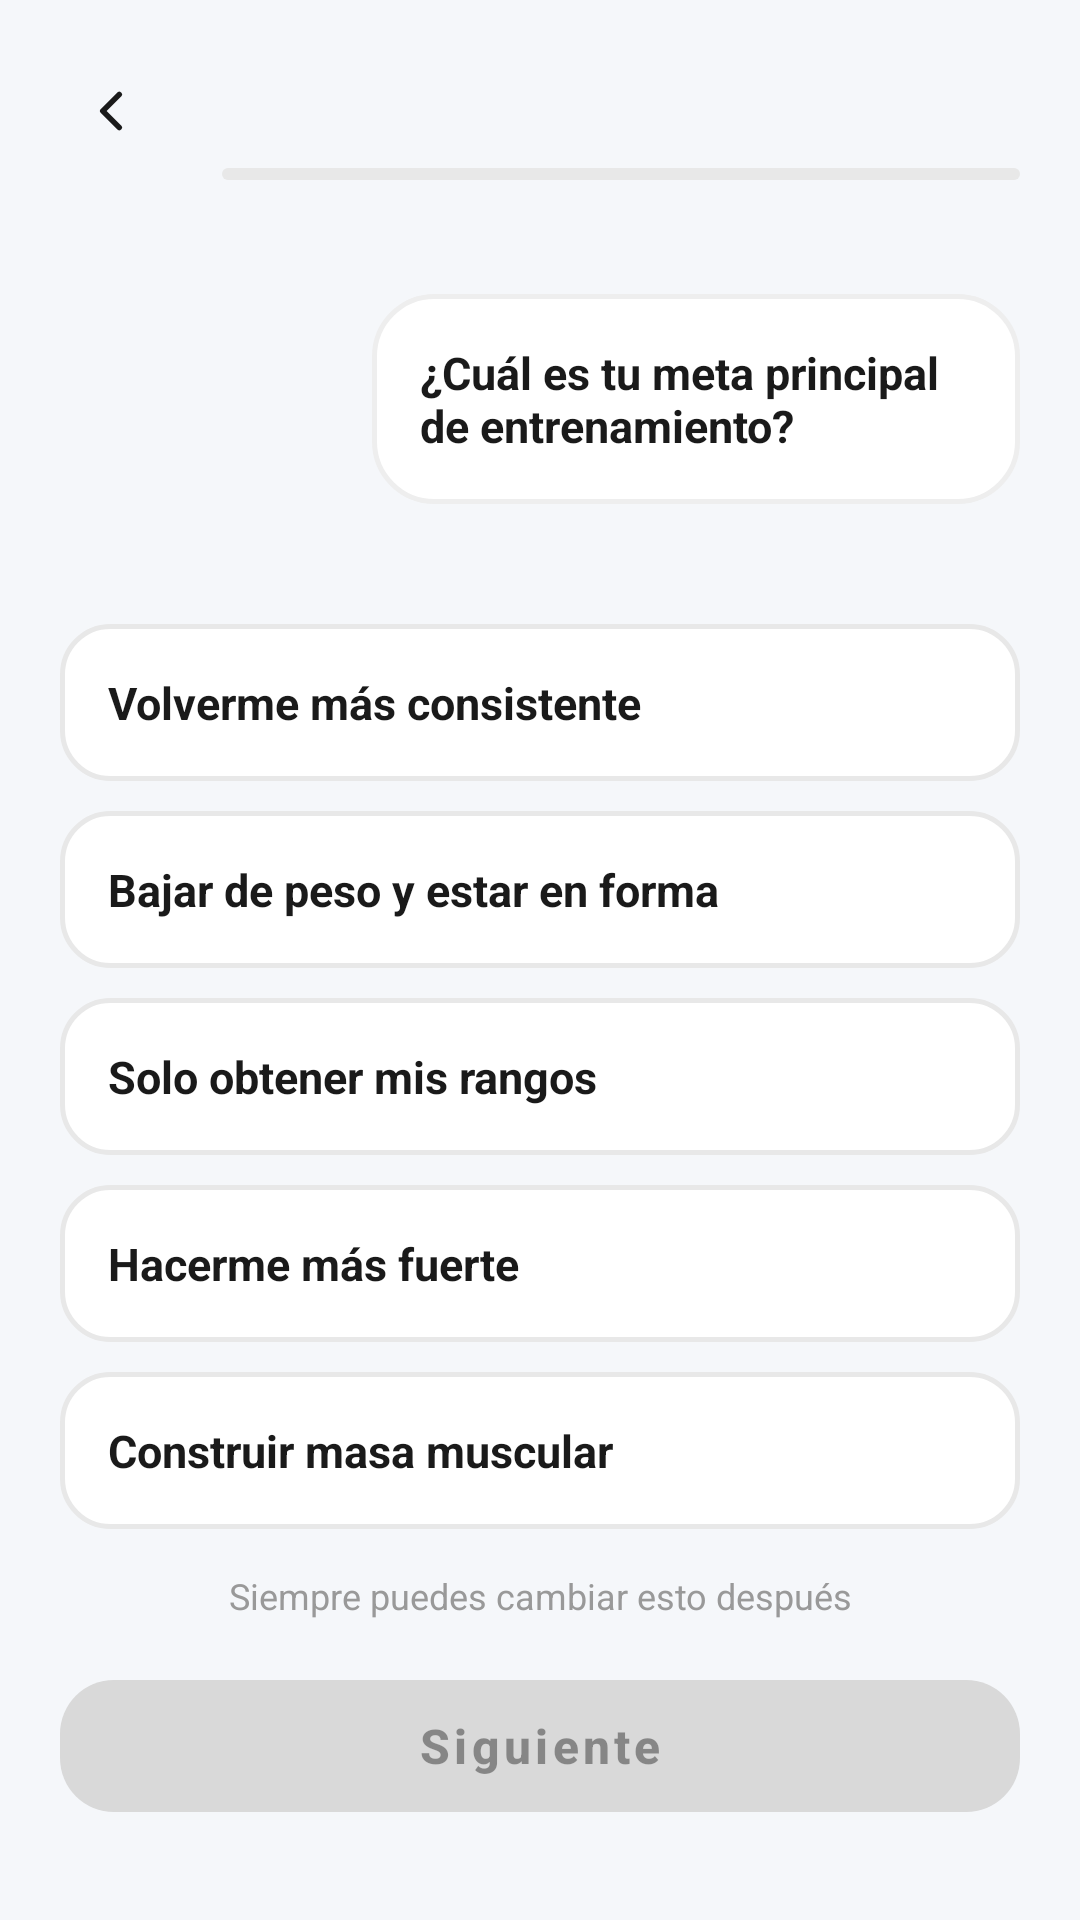

Named icons in this screenshot (1080×1920) and their centers, (x,y):
Volver: (111,111)
